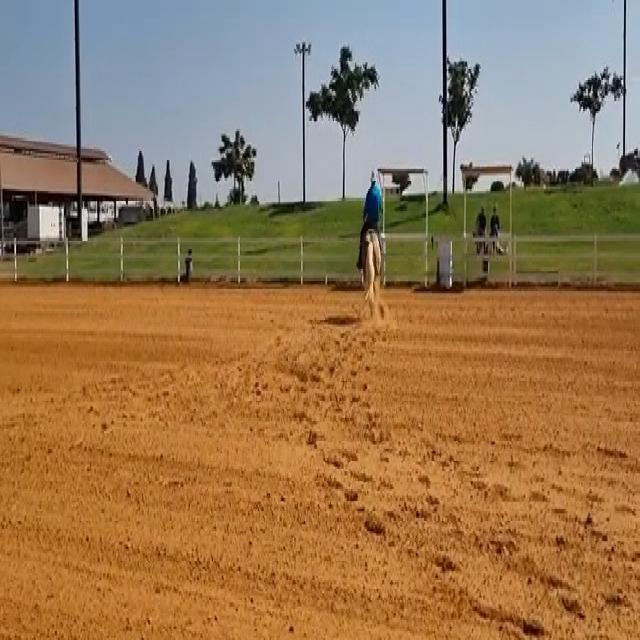horse: (357, 222, 384, 322)
